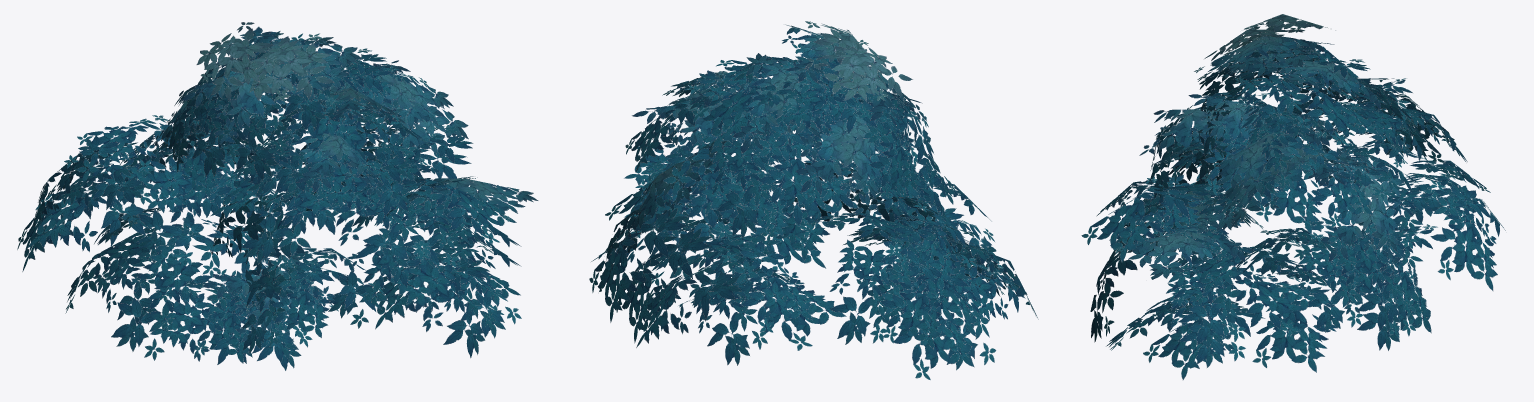
File: Area06_13.FBX
The picture shows the model from 3 angles, left to right: view 1: azimuth 30°, elevation 25°; view 2: azimuth 150°, elevation 25°; view 3: azimuth 270°, elevation 25°; orthographic projection. The views are drawn at different scales.
Parts seen in each view (by area): view 1: Area06_13; view 2: Area06_13; view 3: Area06_13.
Part boxes in pixels (x1=…): Area06_13: x1=17, y1=22, x2=538, y2=370; Area06_13: x1=589, y1=21, x2=1038, y2=379; Area06_13: x1=1081, y1=14, x2=1505, y2=380.
Bounding box in the file's own units: 1553 × 1025 × 1465.
